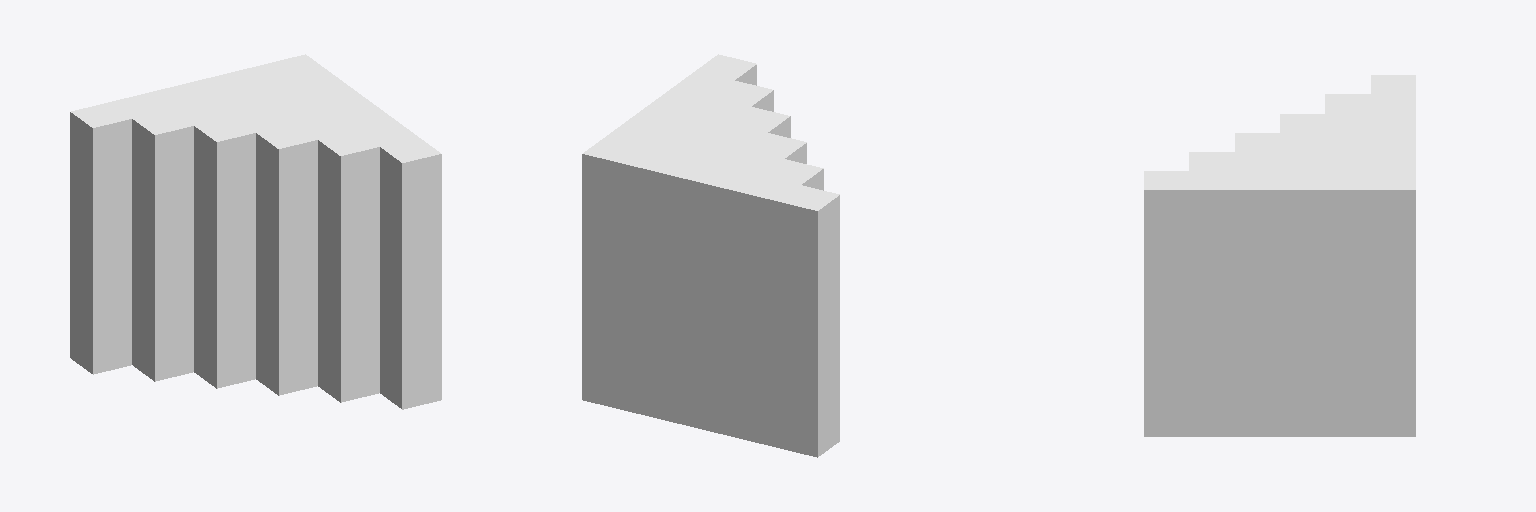
The model's file is SideBlockB.obj.
3 views of the same model, side by side, from view 1: azimuth 30°, elevation 25°; view 2: azimuth 150°, elevation 25°; view 3: azimuth 270°, elevation 25° (orthographic).
Parts seen in each view (by area): view 1: object 1; view 2: object 1; view 3: object 1.
Boxes of the visible parts, box(x1,y1,x2,y2) form: object 1: box(70, 54, 441, 409); object 1: box(582, 54, 839, 457); object 1: box(1144, 75, 1415, 436).
Size of the model in its own units: 0.6 by 0.6 by 0.6.